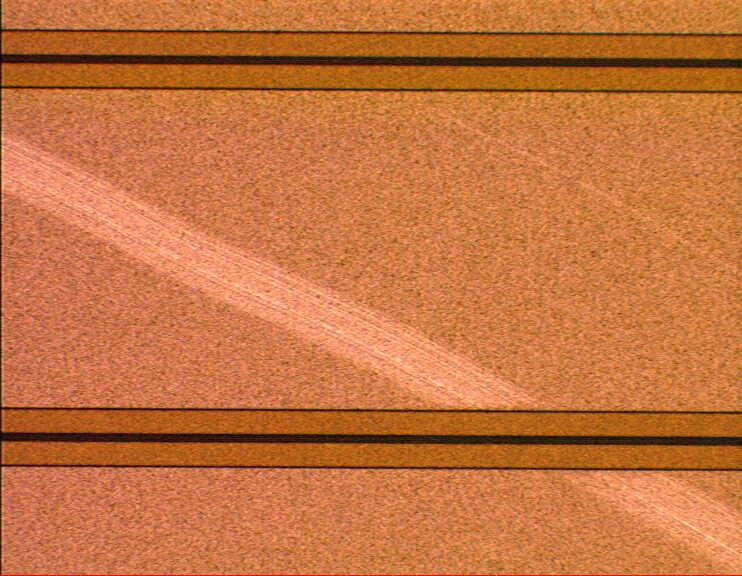SCRATCH: (2, 103, 742, 576)
